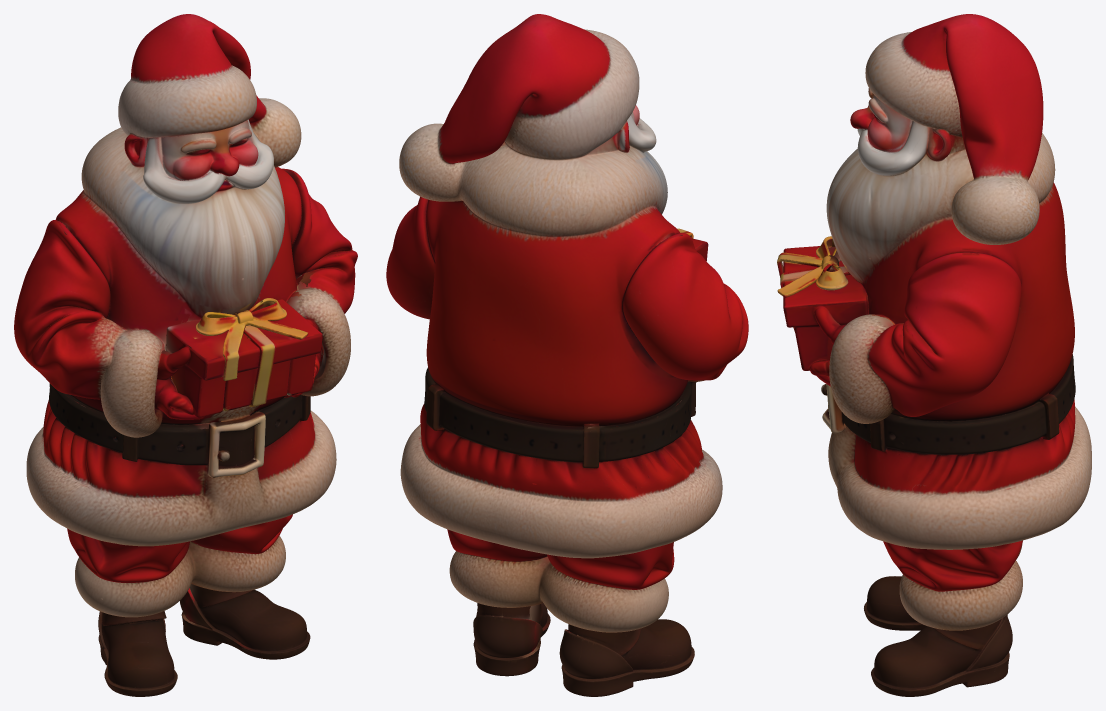
The model's file is player (22).glb.
3 views of the same model, side by side, from view 1: azimuth 30°, elevation 25°; view 2: azimuth 150°, elevation 25°; view 3: azimuth 270°, elevation 25° (orthographic). The views are drawn at different scales.
Visible parts, largest first — view 1: texture_pbr_v128; view 2: texture_pbr_v128; view 3: texture_pbr_v128.
Boxes of the visible parts, x1=… form: texture_pbr_v128: x1=14, y1=14, x2=357, y2=696; texture_pbr_v128: x1=386, y1=14, x2=748, y2=696; texture_pbr_v128: x1=777, y1=14, x2=1091, y2=696.
Bounding box in the file's own units: 0.6333 × 1.14 × 0.508.
1 material, 1 textured.
